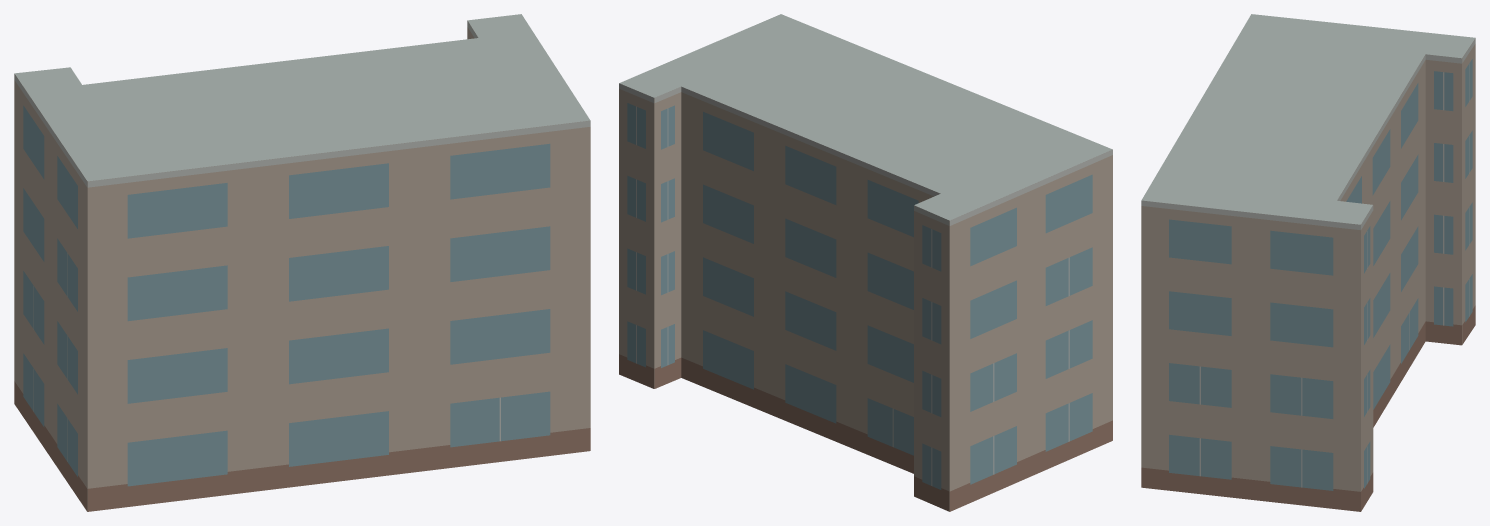
The model's file is survey-upis-32710371.glb.
3 views of the same model, side by side, from view 1: azimuth 30°, elevation 25°; view 2: azimuth 150°, elevation 25°; view 3: azimuth 270°, elevation 25° (orthographic). The views are drawn at different scales.
Parts seen in each view (by area): view 1: survey-upis-32710371.tmp; view 2: survey-upis-32710371.tmp; view 3: survey-upis-32710371.tmp.
Part boxes in pixels (x1,y1,x2,y2): survey-upis-32710371.tmp: (14, 14, 590, 511); survey-upis-32710371.tmp: (619, 14, 1112, 511); survey-upis-32710371.tmp: (1141, 14, 1475, 511).
Bounding box in the file's own units: 20.32 × 12.9 × 13.63.
